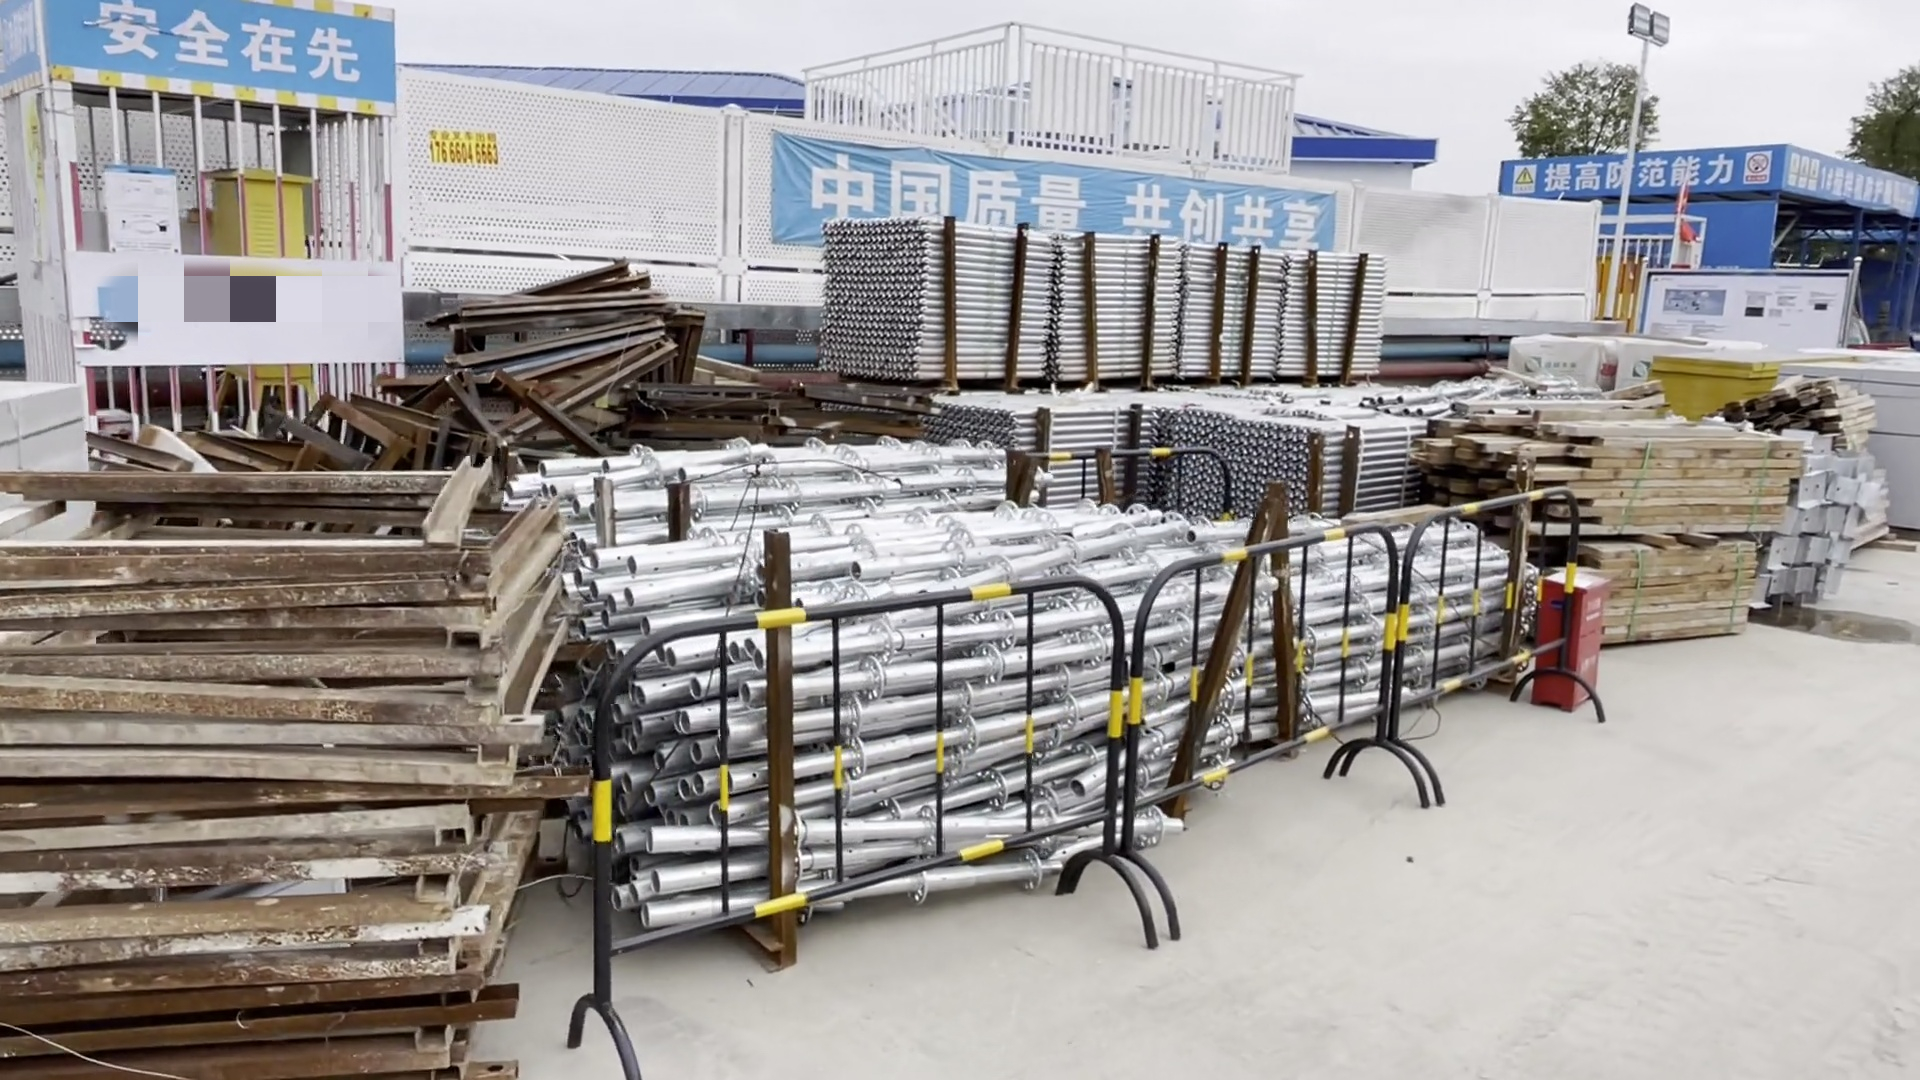scaffold: (580, 458, 1495, 951), (829, 227, 1437, 525)
slogan: (769, 164, 1328, 268), (8, 5, 388, 125), (1516, 153, 1919, 203)
wood: (1480, 404, 1788, 679)
